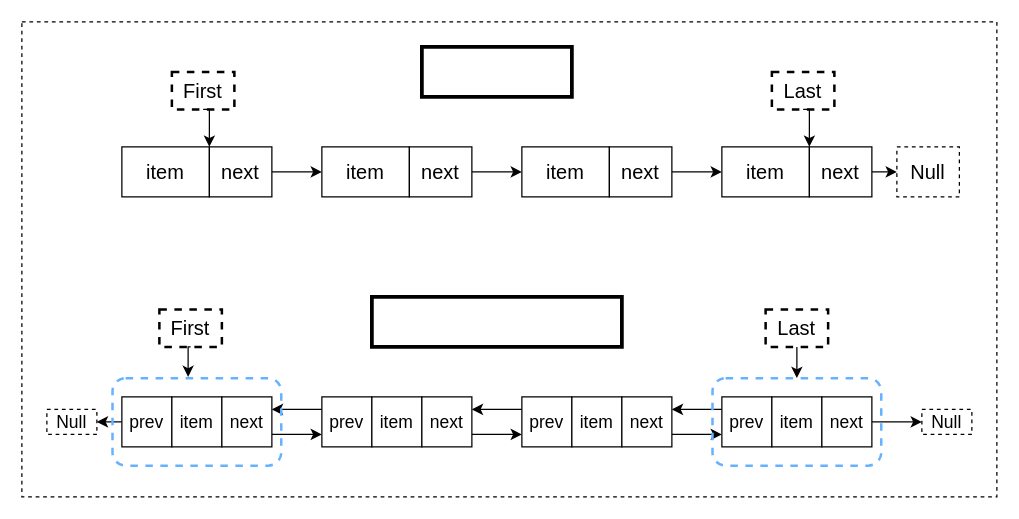
This 1019x519 diagram has some shape labels left out. The shapes that lost their labels are listed below. From the top down, each one's centre as x and y in pixels, then its label:
At point 496,71: "Linked List".
At point 496,321: "Doubly Linked List".
